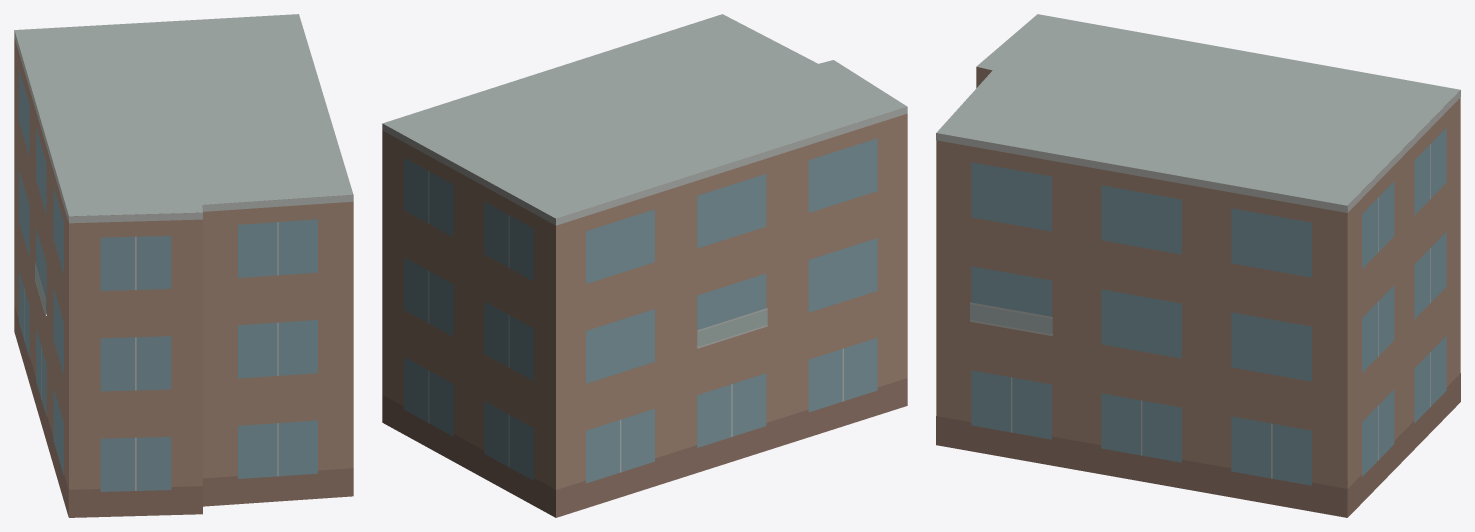
The model's file is survey-upis-32669406.glb.
The picture shows the model from 3 angles, left to right: view 1: azimuth 30°, elevation 25°; view 2: azimuth 150°, elevation 25°; view 3: azimuth 270°, elevation 25°; orthographic projection. The views are drawn at different scales.
Visible parts, largest first — view 1: survey-upis-32669406.tmp; view 2: survey-upis-32669406.tmp; view 3: survey-upis-32669406.tmp.
Part boxes in pixels (x1,y1,x2,y2): survey-upis-32669406.tmp: [14, 14, 353, 517]; survey-upis-32669406.tmp: [382, 14, 907, 517]; survey-upis-32669406.tmp: [936, 14, 1460, 517].
Bounding box in the file's own units: 13.85 × 10.5 × 16.01.
